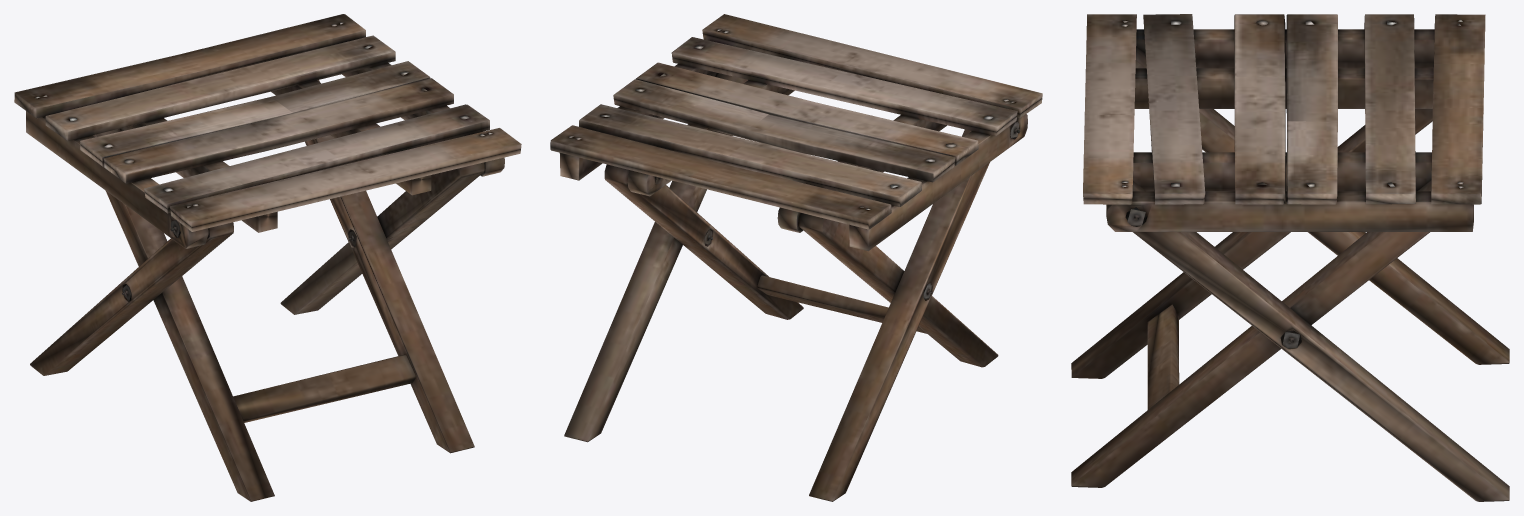
File: folding_wooden_stool.glb
3 renders of one model, left to right at view 1: azimuth 30°, elevation 25°; view 2: azimuth 150°, elevation 25°; view 3: azimuth 270°, elevation 25°, orthographic. The views are drawn at different scales.
Visible parts, largest first — view 1: folding_wooden_stool; view 2: folding_wooden_stool; view 3: folding_wooden_stool.
Boxes of the visible parts, x1=… form: folding_wooden_stool: x1=14, y1=14, x2=521, y2=501; folding_wooden_stool: x1=550, y1=14, x2=1042, y2=501; folding_wooden_stool: x1=1071, y1=14, x2=1509, y2=501.
Size of the model in its own units: 0.5269 by 0.4401 by 0.5416.
1 material, 1 textured.
